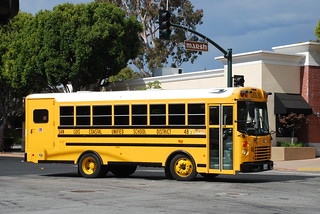bus: (23, 87, 273, 181)
